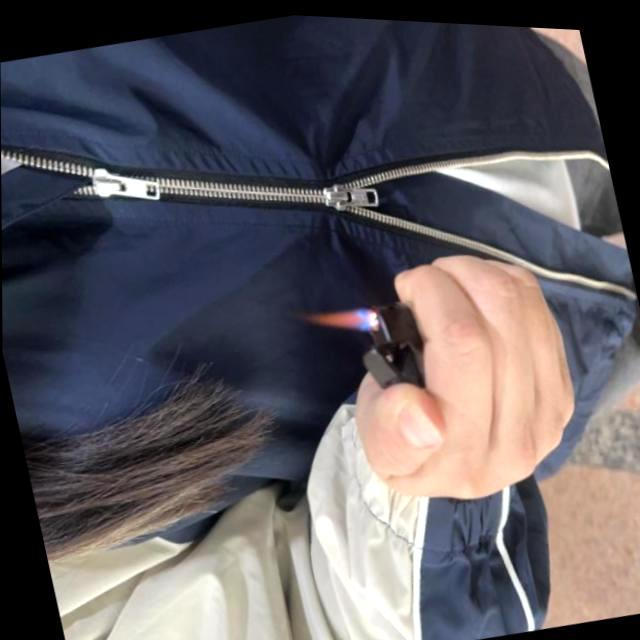fire: (289, 291, 381, 341)
